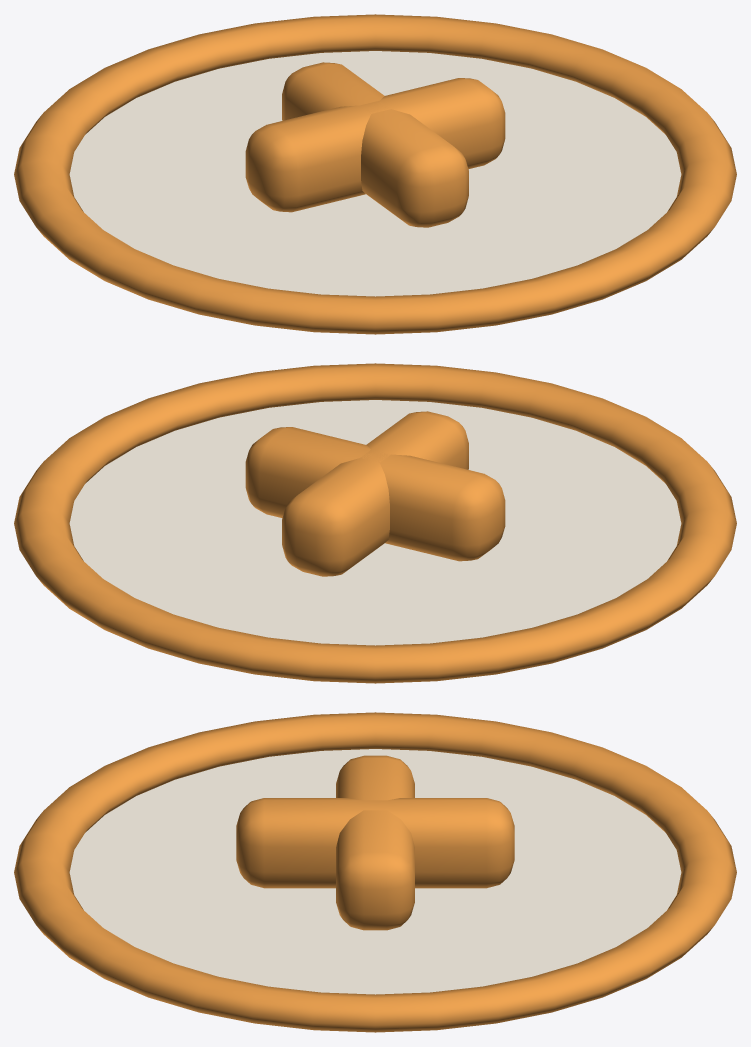
The model's file is flag_slot.glb.
The picture shows the model from 3 angles, top to bottom: view 1: azimuth 30°, elevation 25°; view 2: azimuth 150°, elevation 25°; view 3: azimuth 270°, elevation 25°; orthographic projection.
Visible parts, largest first — view 1: Slot; view 2: Slot; view 3: Slot.
Part boxes in pixels (<box>): Slot: <box>14,14,736,334</box>; Slot: <box>14,363,736,683</box>; Slot: <box>14,712,736,1032</box>.
Size of the model in its own units: 0.78 by 0.11 by 0.78.
